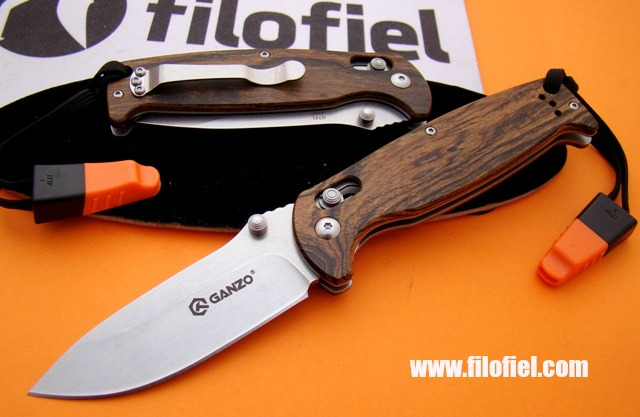knife: (19, 199, 315, 406)
